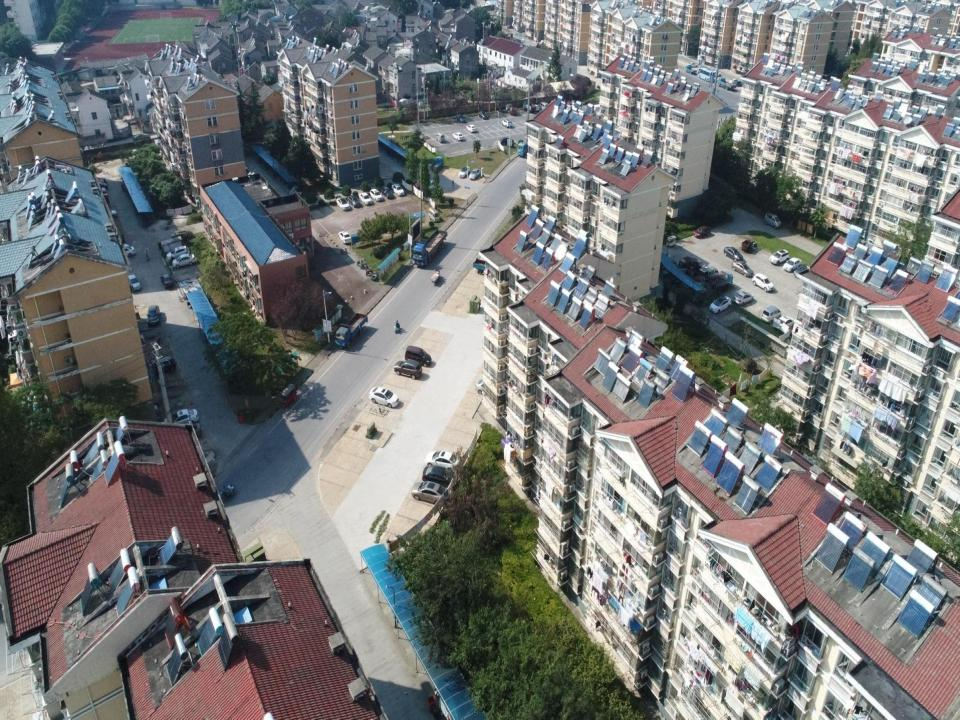car: (412, 481, 450, 505), (424, 450, 463, 470), (422, 465, 458, 486), (163, 408, 199, 427), (368, 387, 400, 408), (394, 359, 422, 379), (151, 355, 176, 375), (171, 422, 201, 438), (752, 272, 774, 292), (474, 378, 496, 396), (709, 296, 732, 313), (172, 253, 196, 269), (732, 260, 754, 277), (166, 245, 187, 261), (774, 315, 795, 331), (769, 249, 789, 265), (733, 291, 754, 306), (783, 257, 802, 273), (146, 305, 160, 326), (724, 246, 743, 261), (126, 274, 141, 292), (794, 264, 811, 279), (693, 225, 711, 239), (336, 196, 351, 211), (160, 273, 174, 289), (338, 230, 352, 244), (370, 188, 384, 202), (381, 186, 394, 200), (678, 256, 694, 267), (132, 133, 151, 142), (347, 195, 360, 208), (359, 192, 372, 205), (391, 184, 405, 196), (458, 165, 470, 179), (499, 136, 514, 146), (469, 168, 481, 180), (425, 180, 436, 192), (478, 109, 489, 120), (452, 132, 464, 141), (466, 123, 476, 133), (455, 113, 465, 123), (501, 120, 512, 128), (533, 103, 540, 111)
truck: (412, 229, 448, 267), (706, 270, 733, 292), (473, 257, 493, 275), (518, 141, 535, 157), (429, 156, 444, 173), (523, 100, 536, 113), (505, 103, 517, 115)
van: (404, 345, 432, 367), (760, 305, 782, 323), (700, 265, 718, 282), (763, 212, 782, 228), (118, 243, 136, 258), (428, 207, 440, 223), (537, 101, 550, 111), (435, 132, 445, 143)
